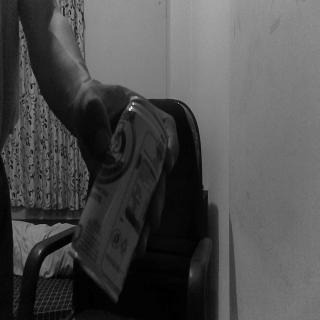alumunium_can: (77, 95, 166, 298)
